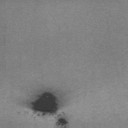iron sheet ash: (30, 92, 58, 114), (56, 118, 70, 126)
